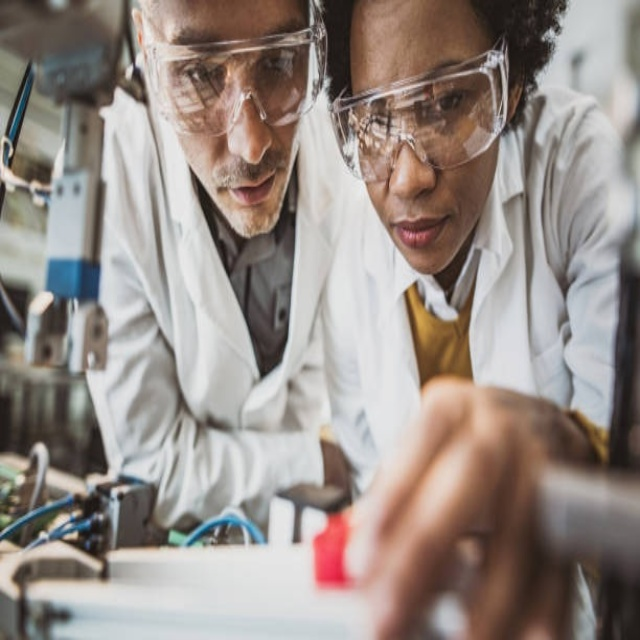Gafas: (331, 32, 512, 183), (138, 6, 327, 136)
Sin_guantes: (343, 378, 609, 640)
Sin_mascara: (214, 162, 287, 229), (384, 202, 459, 267)
